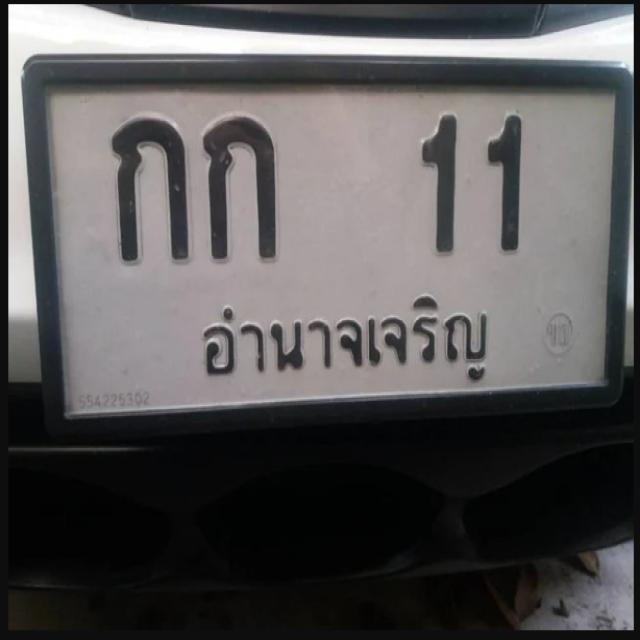1: (479, 110, 537, 263), (415, 109, 464, 261)
A01: (106, 113, 193, 266), (202, 112, 283, 268)
ACR: (192, 295, 500, 387)
